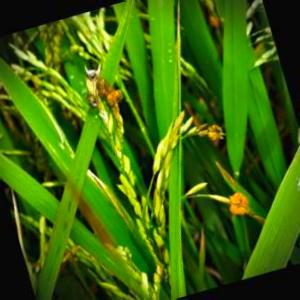Leaf_Scald: (220, 194, 258, 221), (98, 75, 120, 118), (203, 126, 234, 143)
